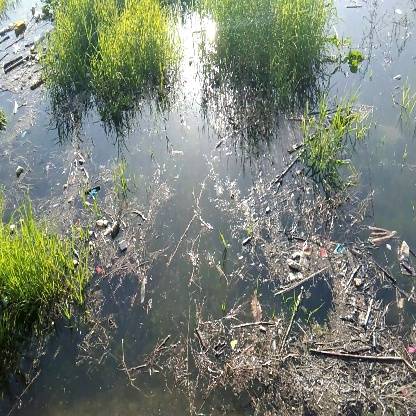branch: (304, 340, 410, 373)
